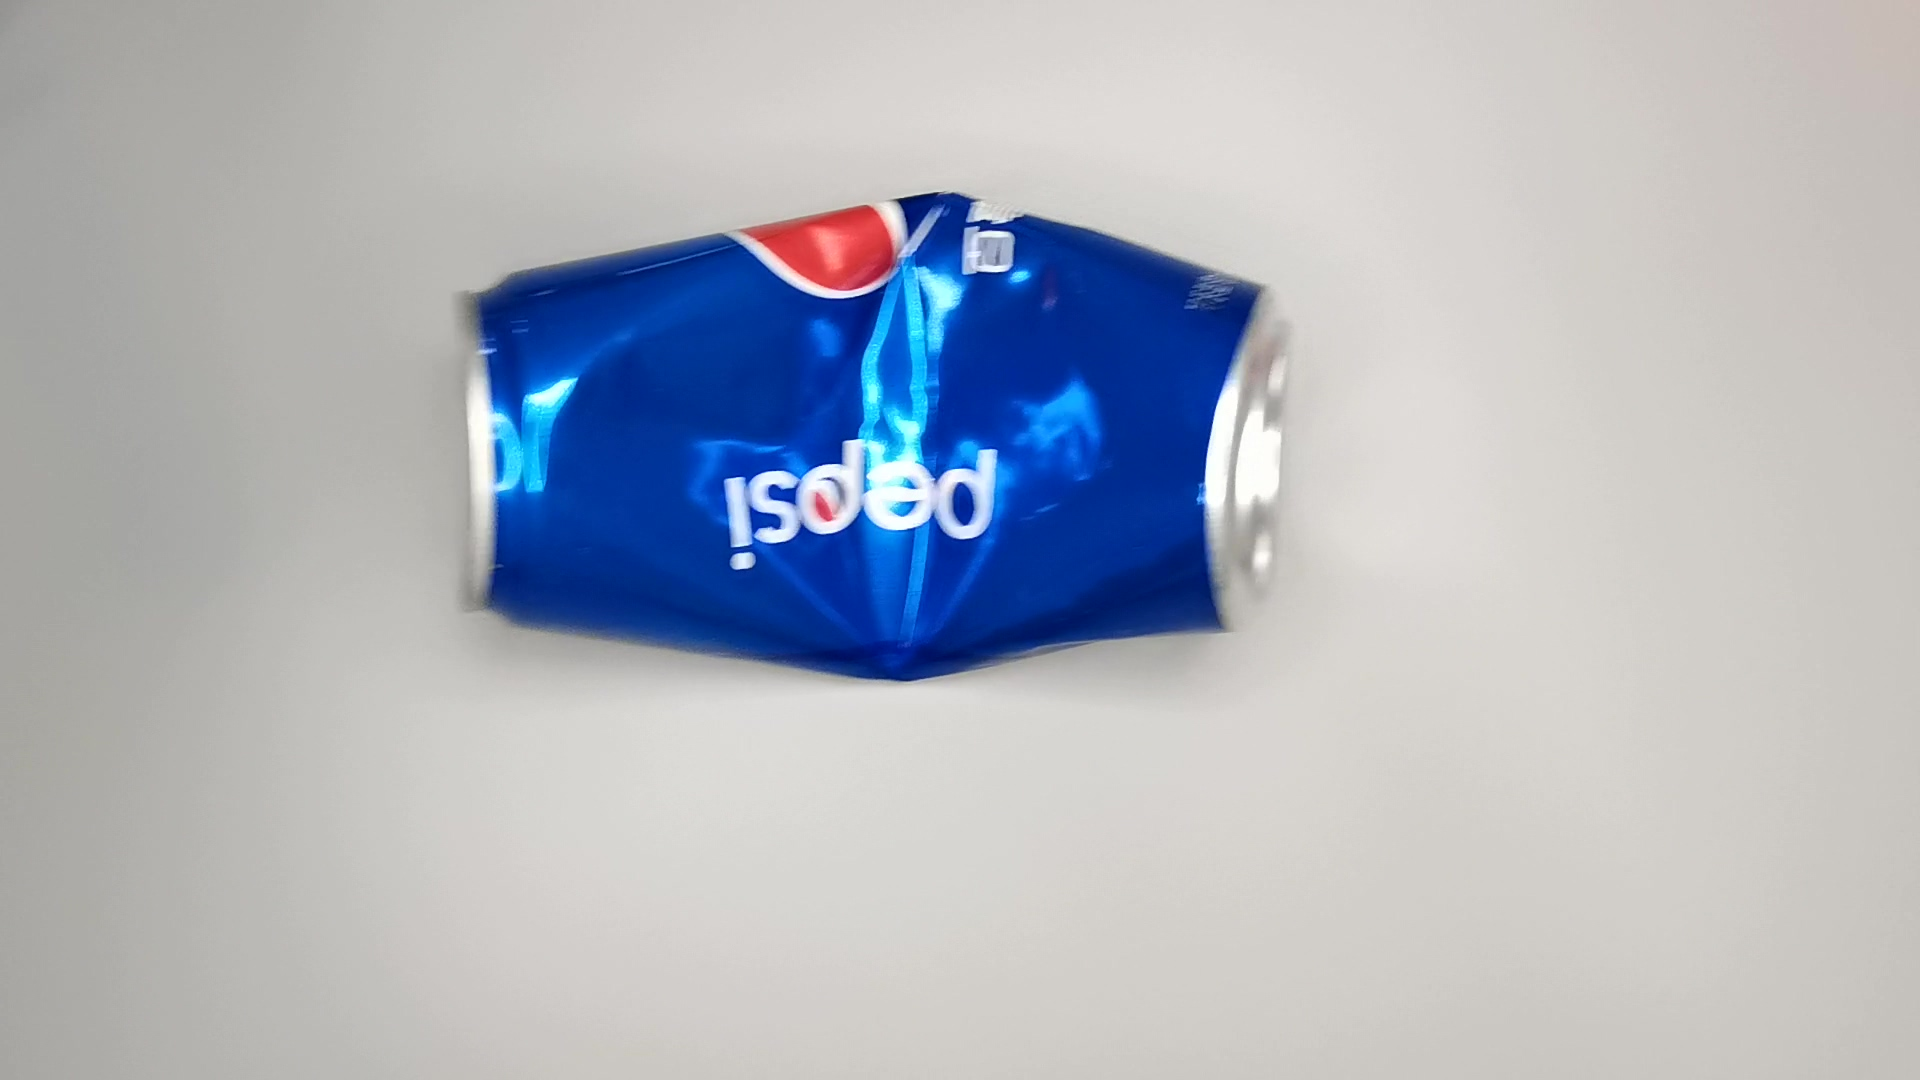can: (433, 175, 1294, 688)
